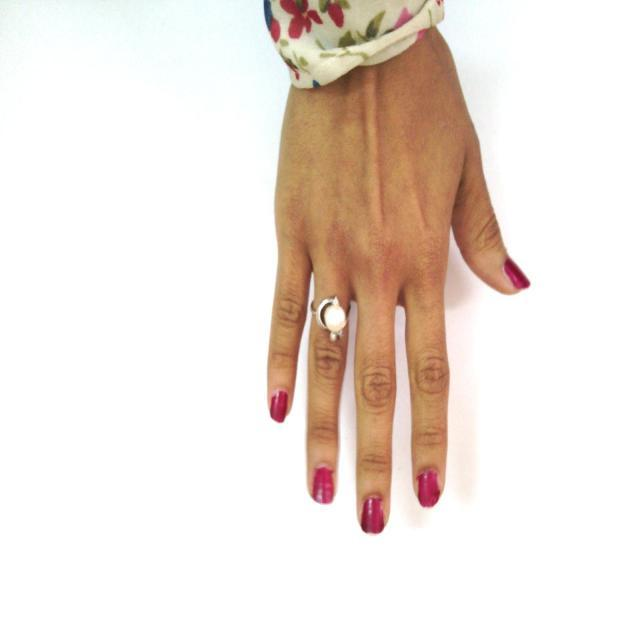Fingernail: (362, 497, 384, 536), (418, 471, 439, 508), (313, 466, 333, 504), (506, 260, 530, 288), (271, 390, 288, 423)
